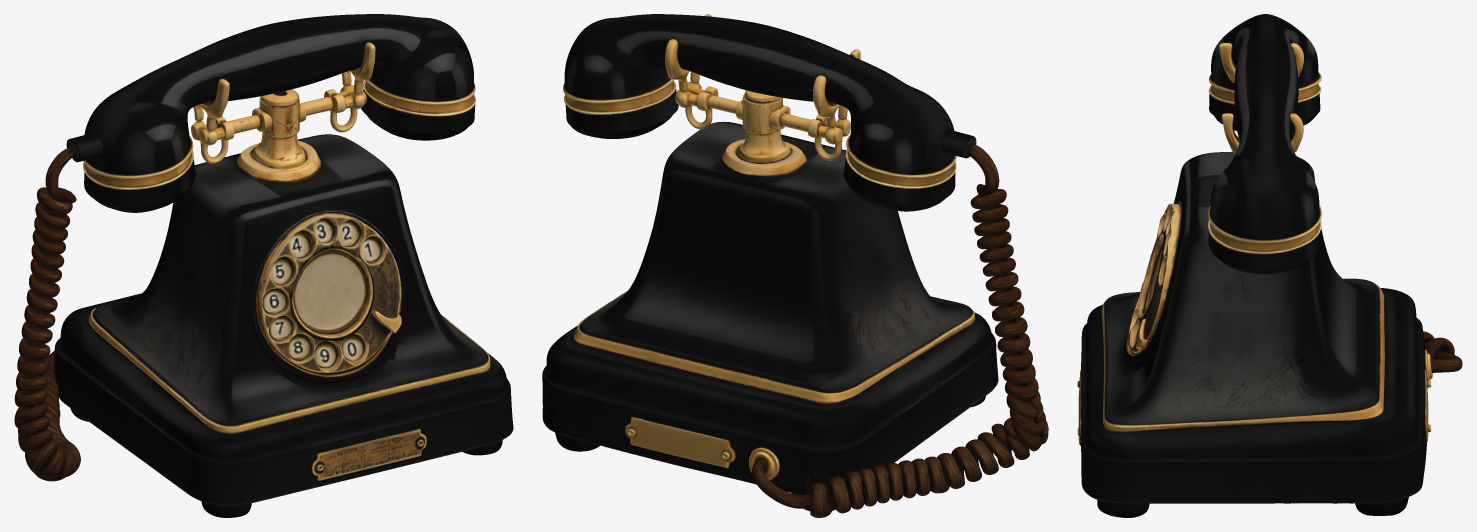
File: telephone.glb
3 views of the same model, side by side, from view 1: azimuth 30°, elevation 25°; view 2: azimuth 150°, elevation 25°; view 3: azimuth 270°, elevation 25° (orthographic). The views are drawn at different scales.
Parts seen in each view (by area): view 1: Object_5, Object_15; view 2: Object_5; view 3: Object_5, Object_21, Object_15.
Boxes of the visible parts, x1,y1,x2,y2 form: Object_5: (14,14,513,505); Object_15: (70,408,251,517); Object_5: (542,14,1048,517); Object_5: (1077,14,1462,503); Object_21: (1097,500,1149,517); Object_15: (1355,497,1408,515).
Size of the model in its own units: 1.9 by 1.59 by 1.41.
Materials: 3 (3 with a texture image).
